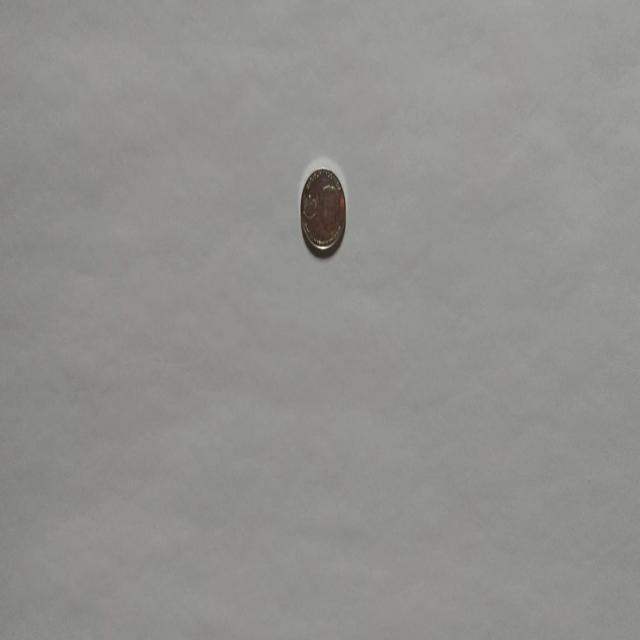seratus rupiah: (299, 165, 346, 256)
